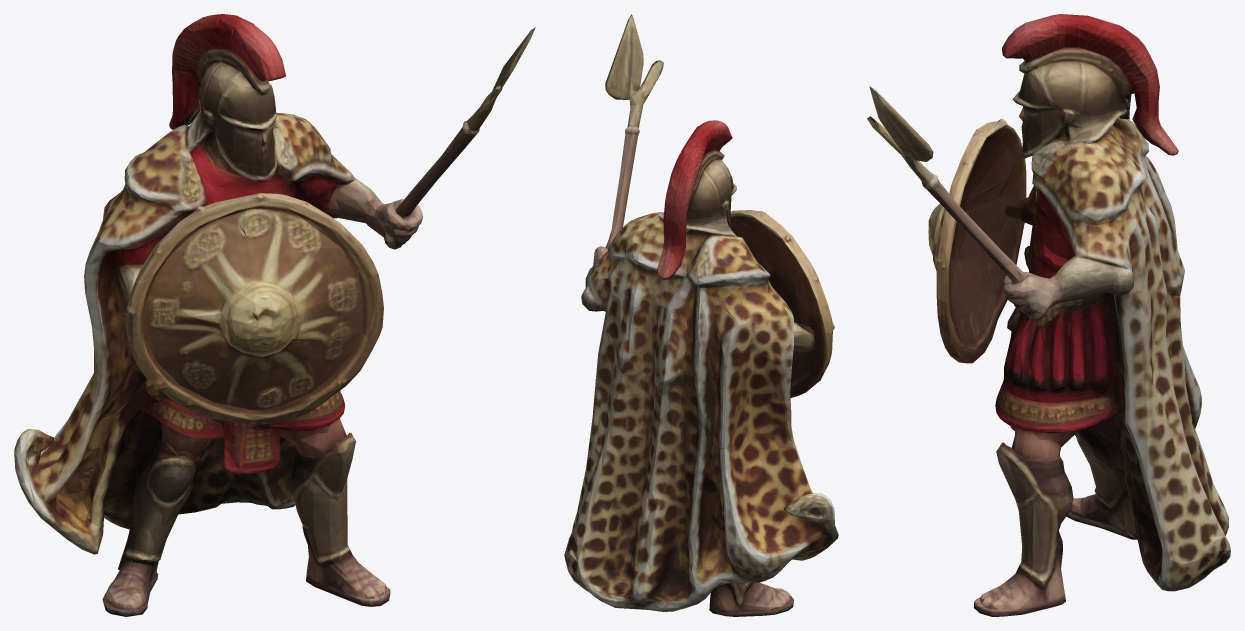
The model's file is phalanxHoplite.glb.
3 views of the same model, side by side, from view 1: azimuth 30°, elevation 25°; view 2: azimuth 150°, elevation 25°; view 3: azimuth 270°, elevation 25° (orthographic). The views are drawn at different scales.
Parts seen in each view (by area): view 1: world; view 2: world; view 3: world.
Boxes of the visible parts, x1,y1,x2,y2 form: world: (14, 14, 535, 616); world: (564, 14, 838, 616); world: (867, 14, 1230, 616).
Size of the model in its own units: 0.6883 by 1 by 0.5804.
1 material, 1 textured.
